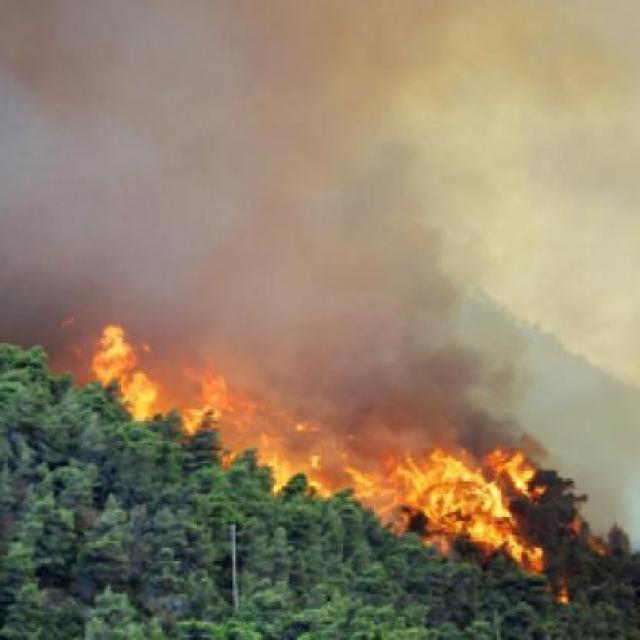Fire: (64, 286, 581, 602)
